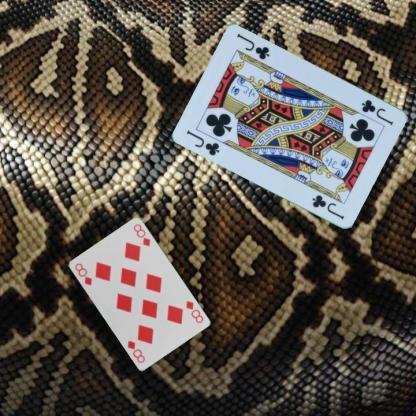8d: (183, 298, 205, 325), (72, 260, 93, 286)
Jc: (358, 96, 396, 126), (184, 127, 221, 157)
